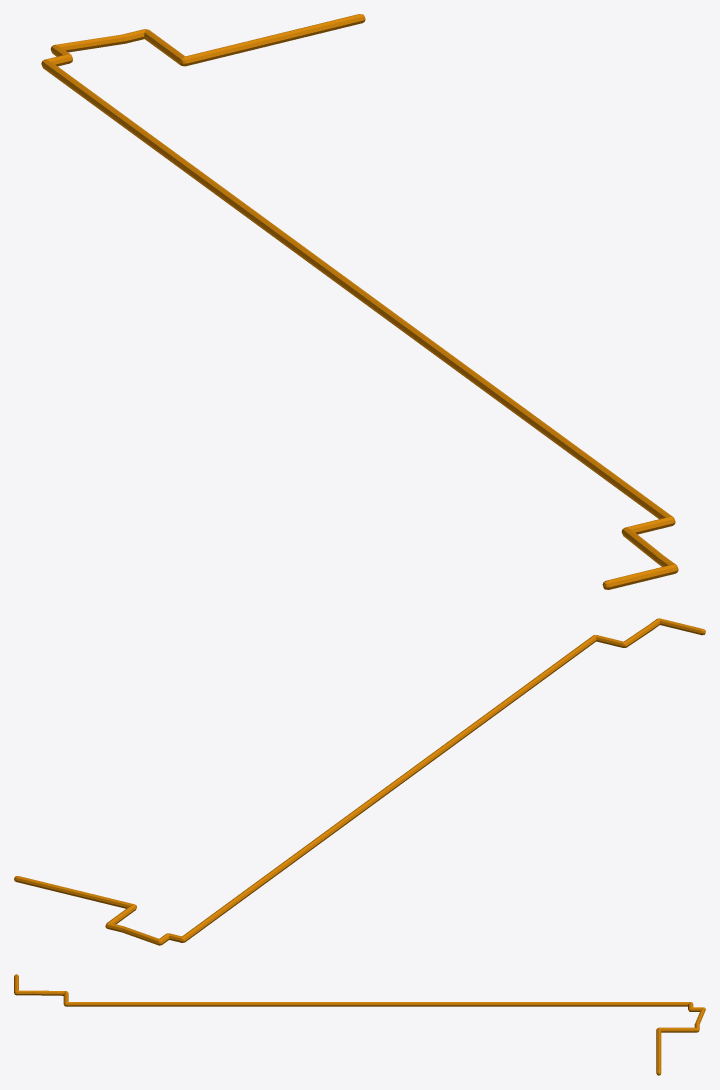
3 views of the same model, one above another, from view 1: azimuth 30°, elevation 25°; view 2: azimuth 150°, elevation 25°; view 3: azimuth 270°, elevation 25° (orthographic). The views are drawn at different scales.
Size of the model in its own units: 916 by 20 by 2715.
